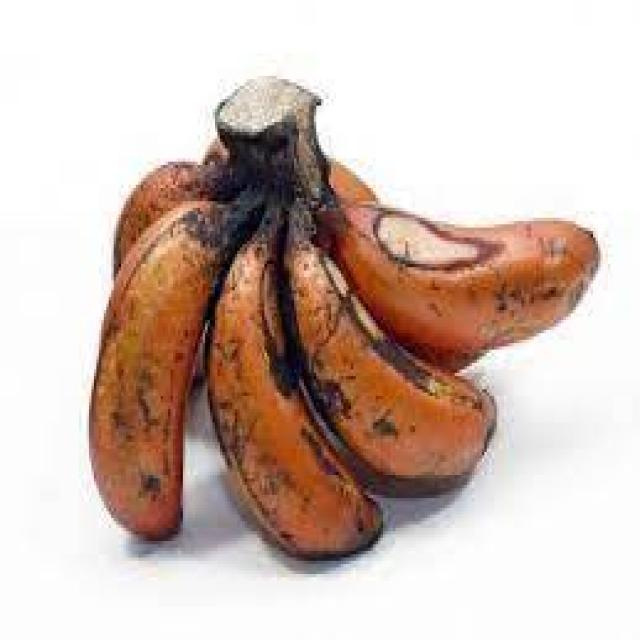banana: (87, 72, 600, 560)
